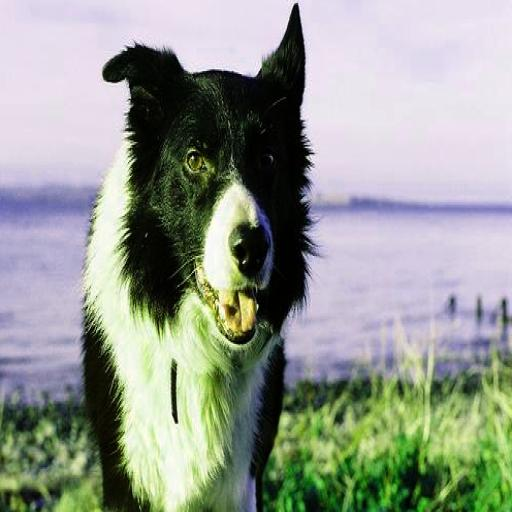dog_face: (104, 10, 313, 352)
